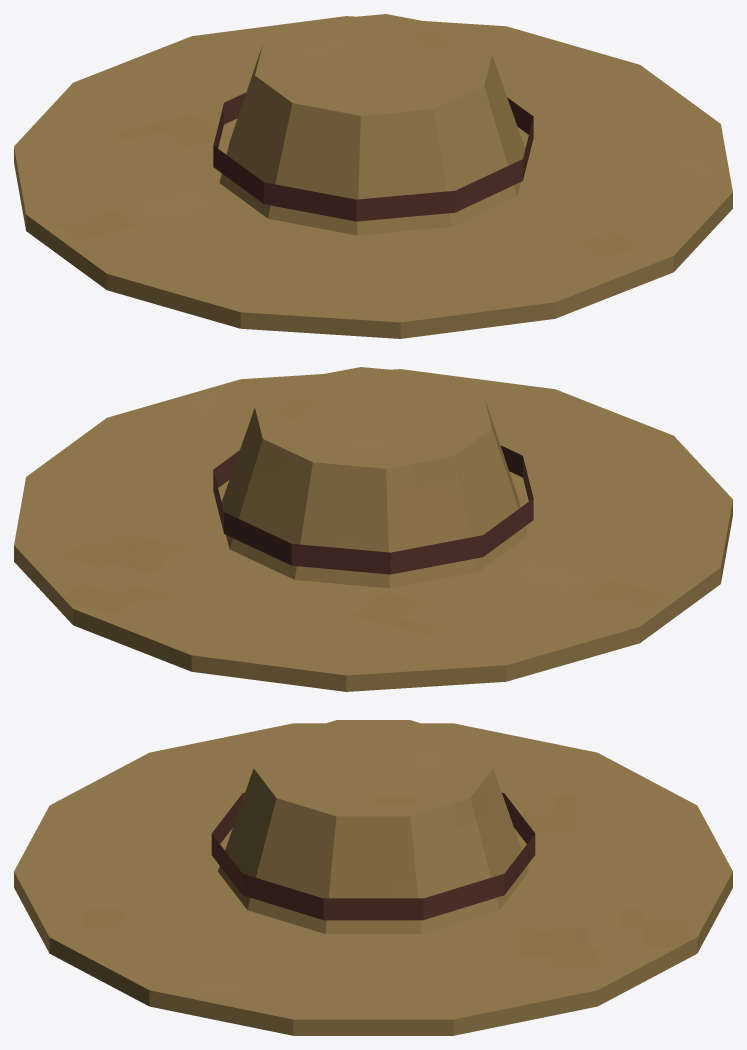
Rendered from acc_hat_wide.glb.
3 renders of one model, top to bottom at view 1: azimuth 30°, elevation 25°; view 2: azimuth 150°, elevation 25°; view 3: azimuth 270°, elevation 25°, orthographic.
Parts seen in each view (by area): view 1: acc_hat_wide; view 2: acc_hat_wide; view 3: acc_hat_wide.
Part boxes in pixels (x1,y1,x2,y2): acc_hat_wide: [14, 14, 732, 338]; acc_hat_wide: [14, 367, 732, 691]; acc_hat_wide: [14, 720, 732, 1035].
Size of the model in its own units: 0.585 by 0.11 by 0.6.
Materials: 2 (2 with a texture image).
